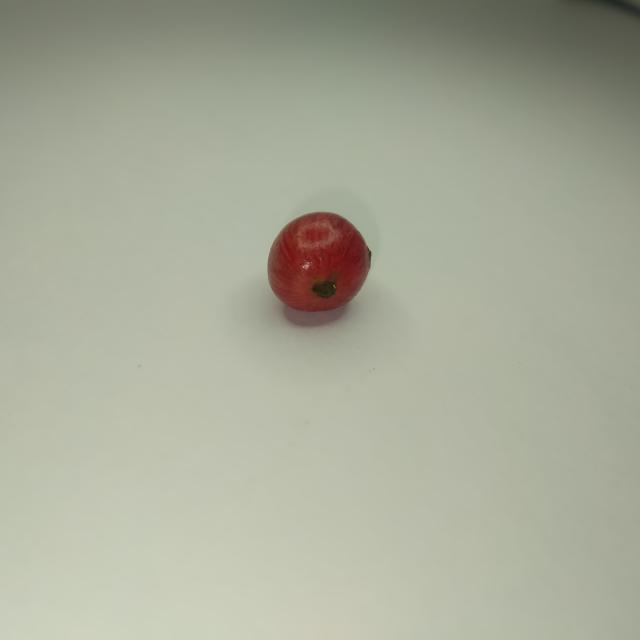Infectado: (268, 212, 371, 313)
